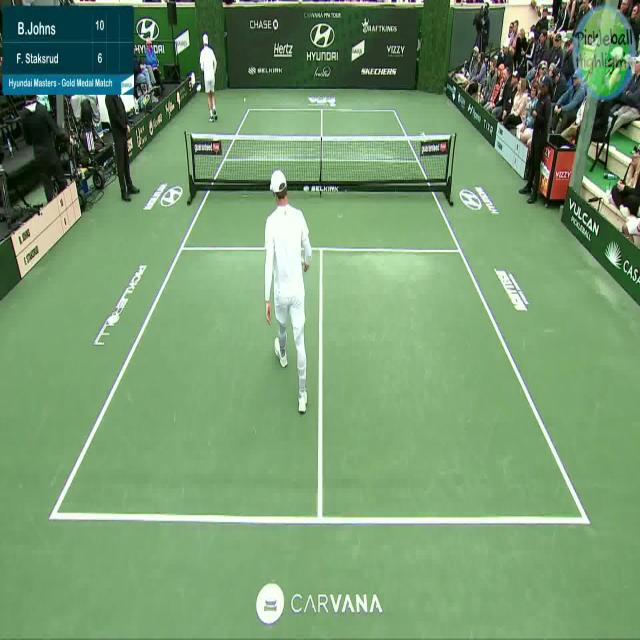ball: (243, 97, 247, 100)
